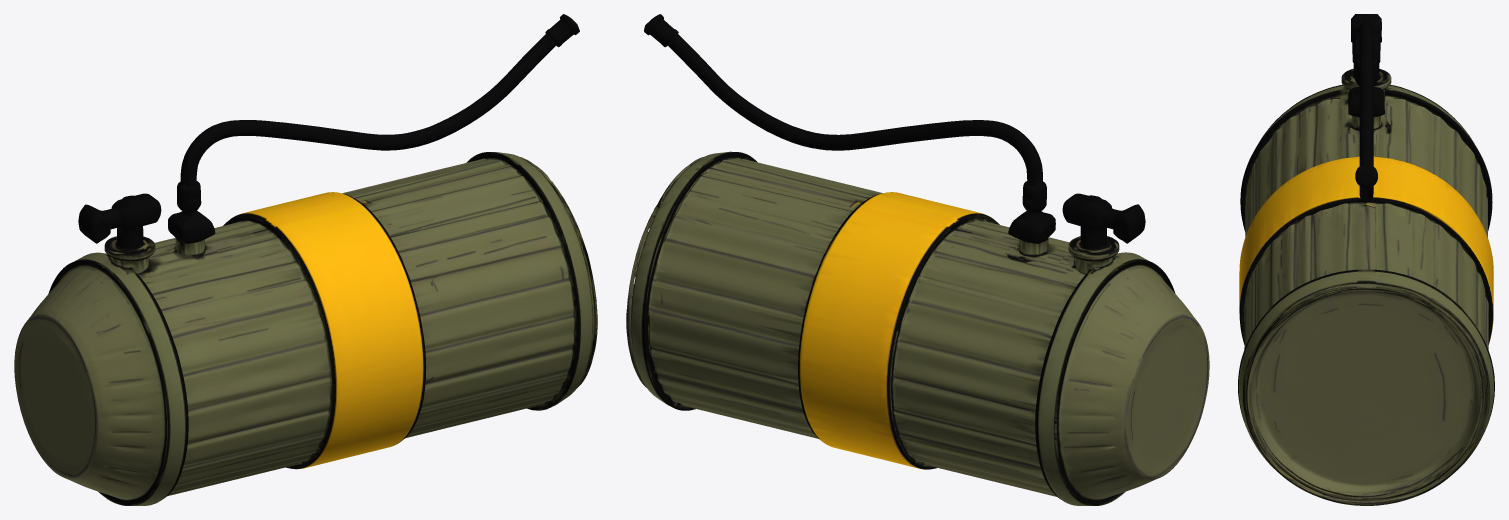
File: WPN-FUEL-01.glb
The picture shows the model from 3 angles, left to right: view 1: azimuth 30°, elevation 25°; view 2: azimuth 150°, elevation 25°; view 3: azimuth 270°, elevation 25°; orthographic projection. The views are drawn at different scales.
Parts seen in each view (by area): view 1: node_0; view 2: node_0; view 3: node_0.
Part boxes in pixels (box(x1,y1,x2,y2)): node_0: box(14, 14, 597, 505); node_0: box(626, 14, 1209, 505); node_0: box(1238, 14, 1494, 505).
Bounding box in the file's own units: 1.01 × 0.6935 × 0.4433.
Materials: 1 (1 with a texture image).
